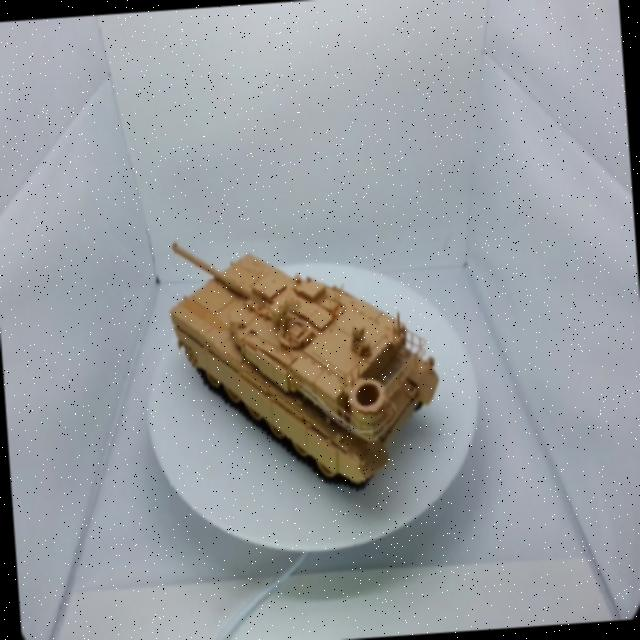korea tank: (135, 191, 453, 517)
